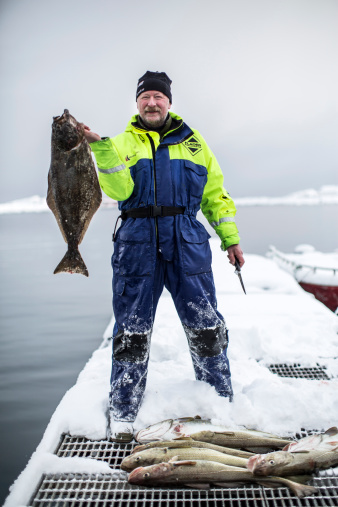em pe: (70, 52, 228, 420)
